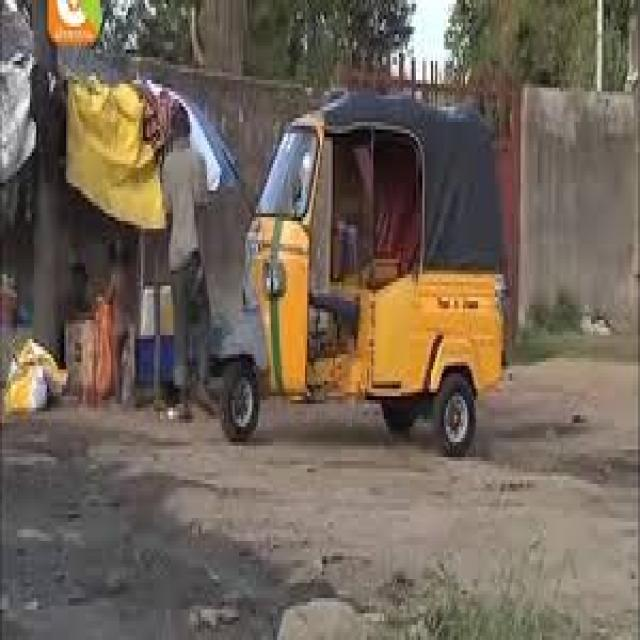tuktuk: (199, 43, 518, 520)
